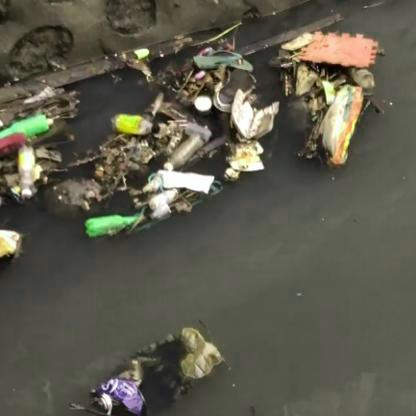Glass: (82, 212, 148, 240)
Plastic: (0, 109, 51, 143), (14, 141, 42, 202), (108, 110, 162, 140)
Trash: (87, 322, 227, 415), (154, 164, 220, 197), (194, 50, 256, 72)
